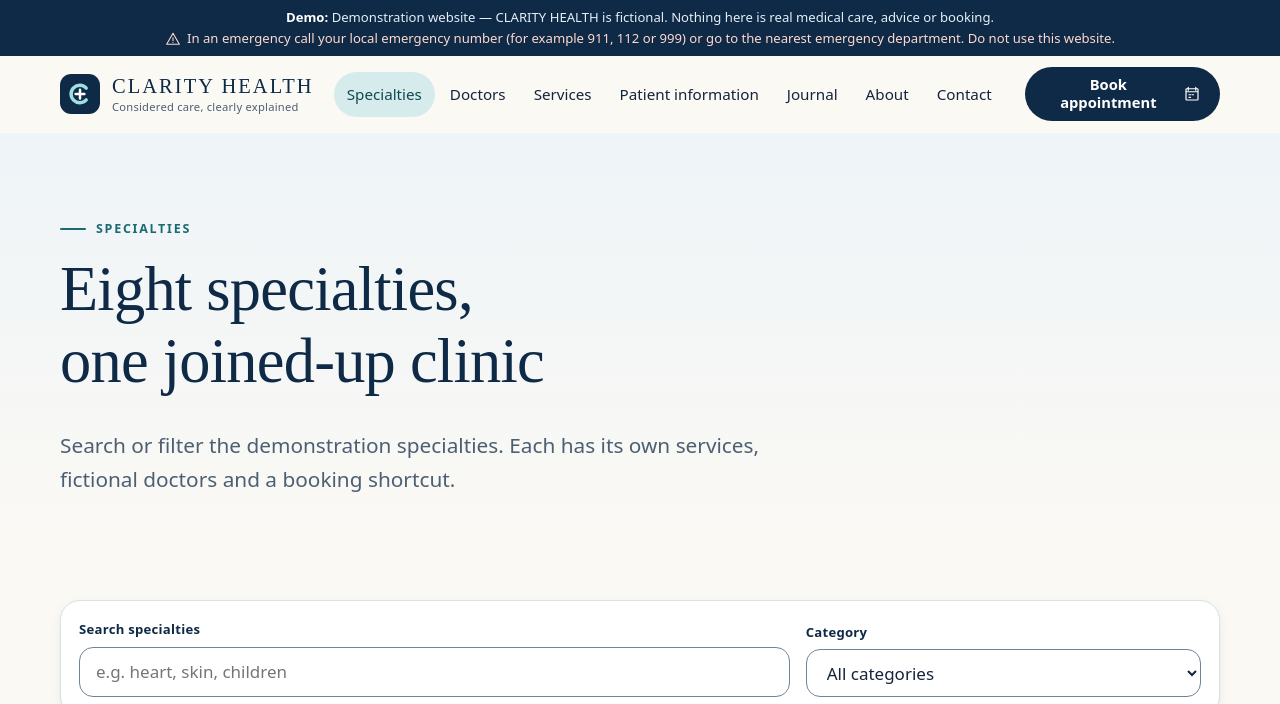
Test: filters › filters specialties by search text and category
This screenshot has width=1280, height=704.
In the search field labelled "Search specialties": x=434, y=672 [79,647,790,697], type "heart"
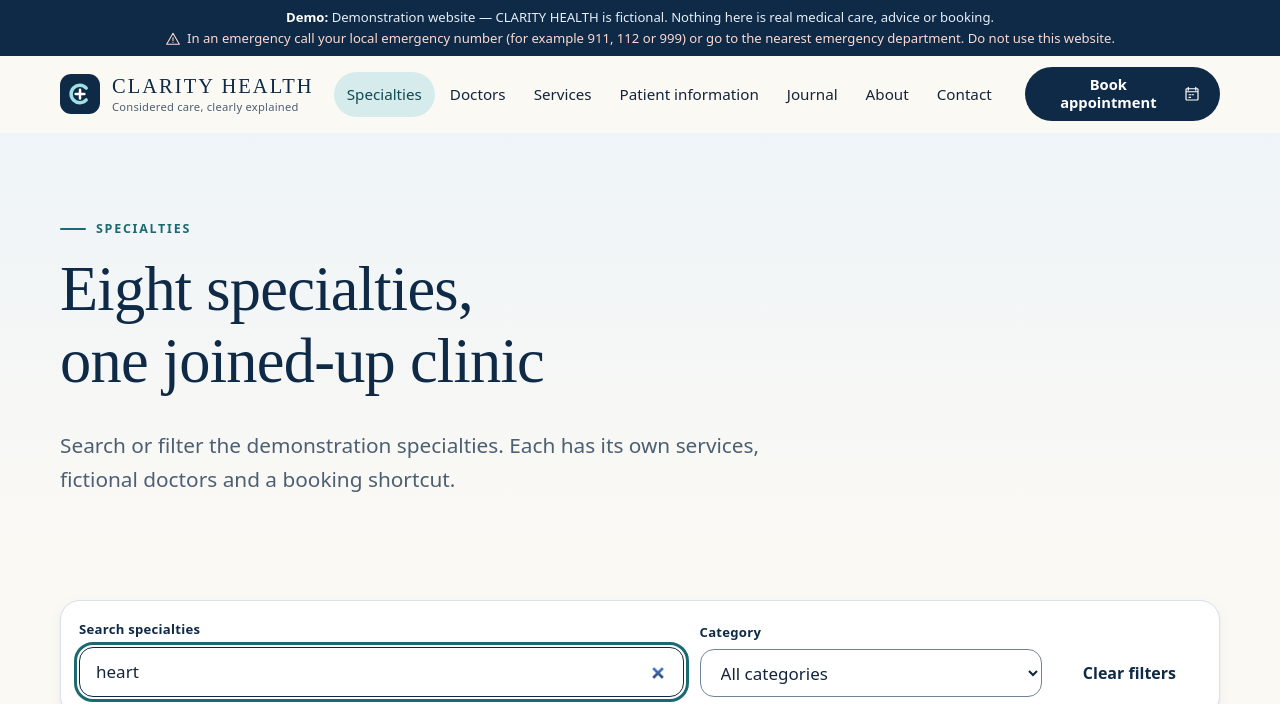
Clear the search field labelled "Search specialties": x=381, y=672 [79,647,684,697]
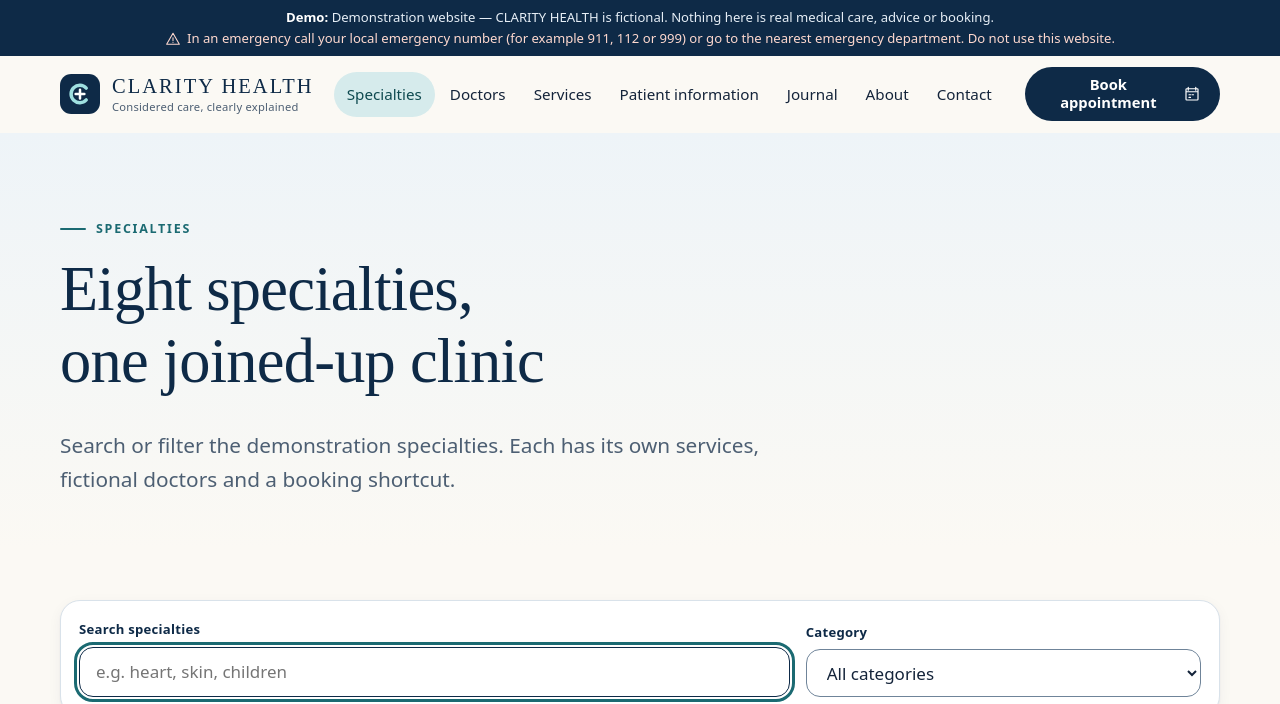
Select "Rehabilitation" in the dropdown labelled "Category": x=1003, y=673 [806,649,1201,697]
(page scrolled)
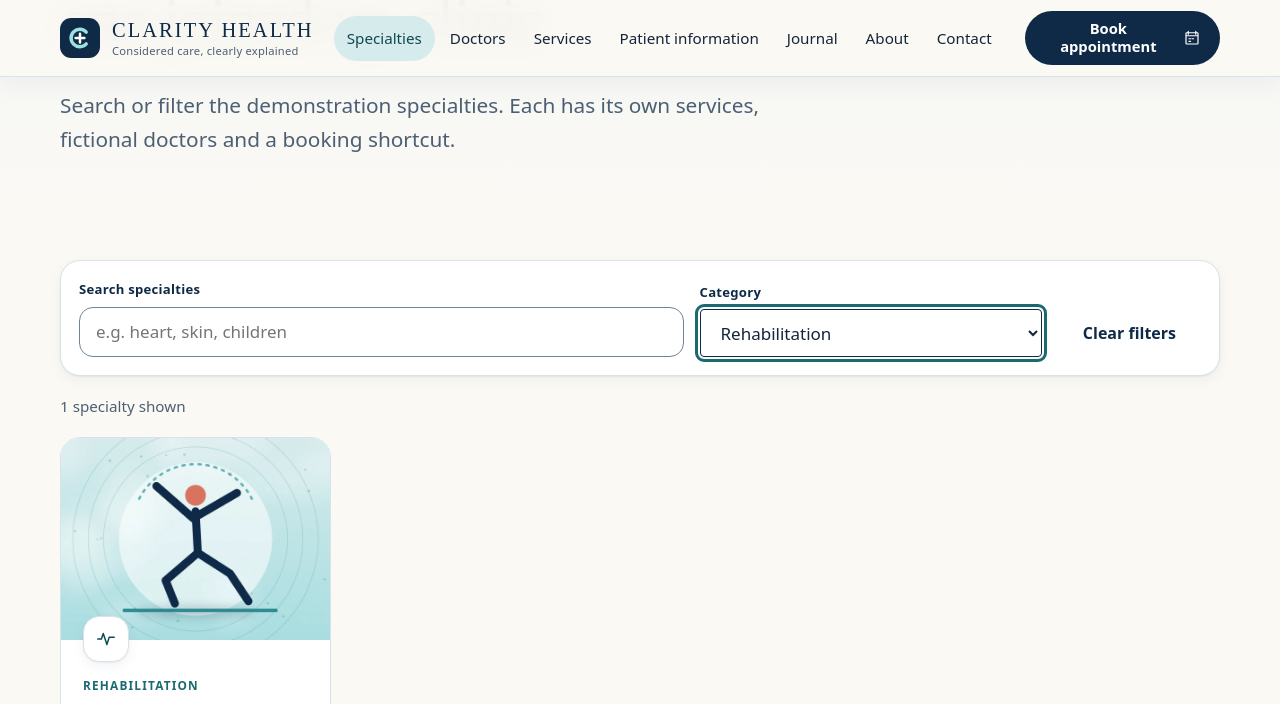
Result: the text "1 specialty shown" is shown at [60,396,186,416]
